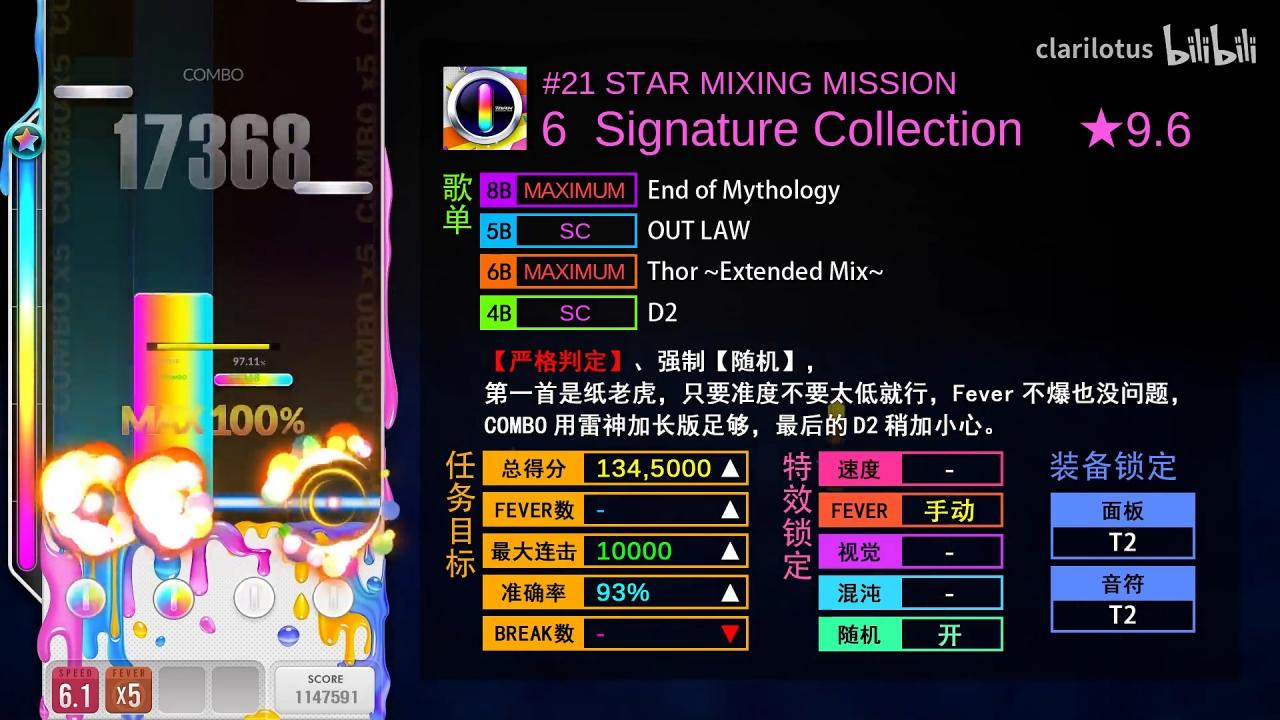hold-end: (133, 292, 213, 306)
note: (294, 181, 373, 195), (54, 85, 132, 99), (214, 373, 294, 386)
